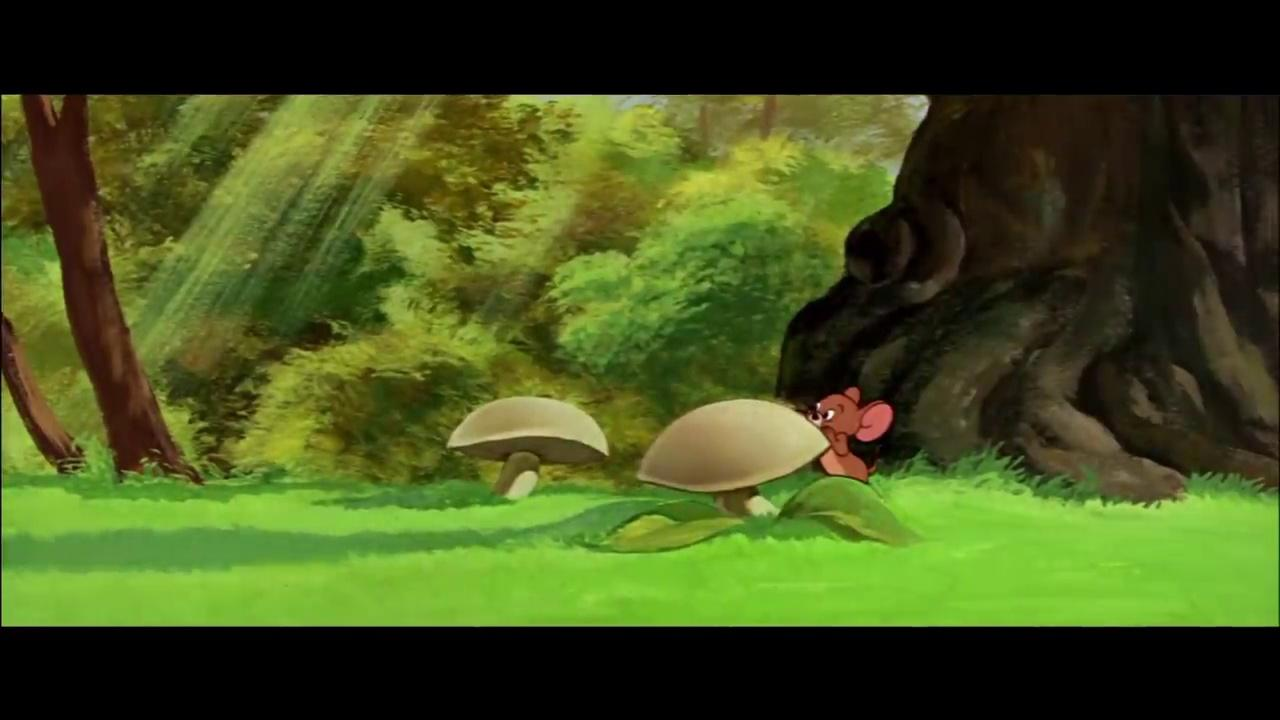Jerry: (792, 384, 895, 484)
